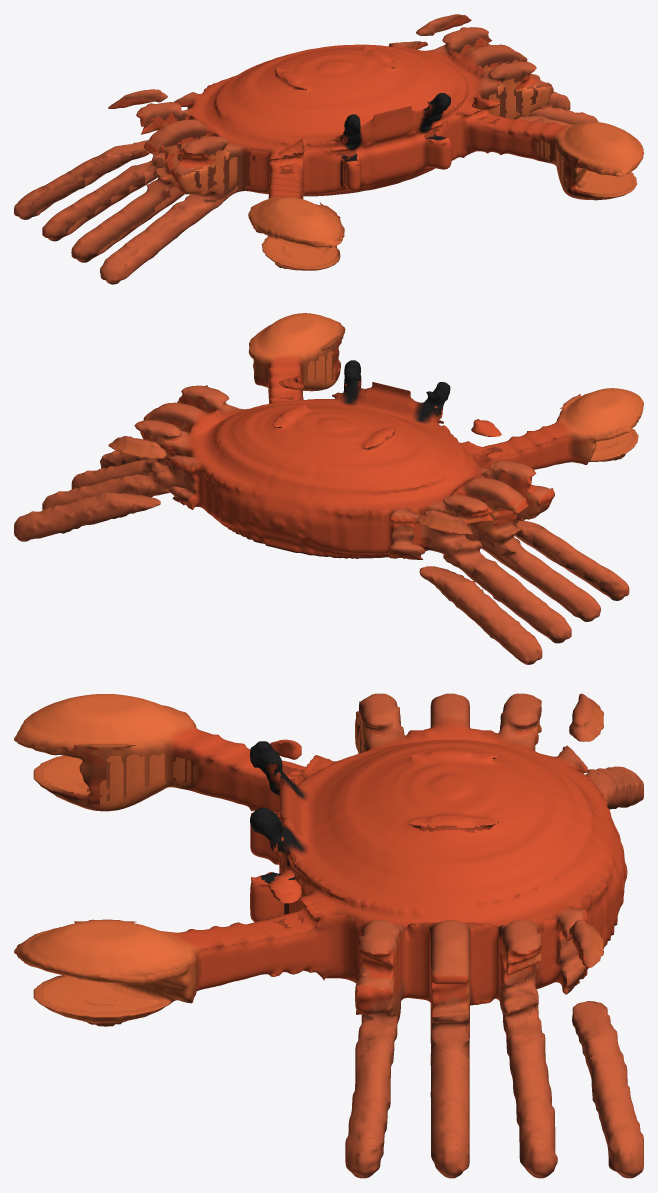
3 renders of one model, top to bottom at view 1: azimuth 30°, elevation 25°; view 2: azimuth 150°, elevation 25°; view 3: azimuth 270°, elevation 25°, orthographic. The views are drawn at different scales.
Visible parts, largest first — view 1: animal; view 2: animal; view 3: animal.
Boxes of the visible parts, bbox=[...] form: animal: bbox=[14, 14, 643, 284]; animal: bbox=[14, 313, 643, 664]; animal: bbox=[14, 693, 643, 1178].
Bounding box in the file's own units: 0.2919 × 0.0749 × 0.1999.
Materials: 1 (1 with a texture image).
